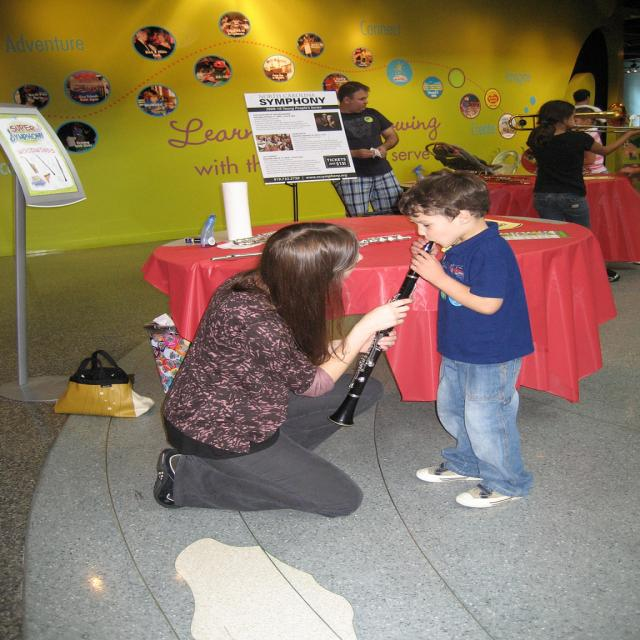clarinet: (325, 237, 439, 428)
